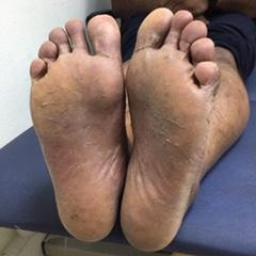Plantar View -Both Feet-: (25, 2, 224, 255)
